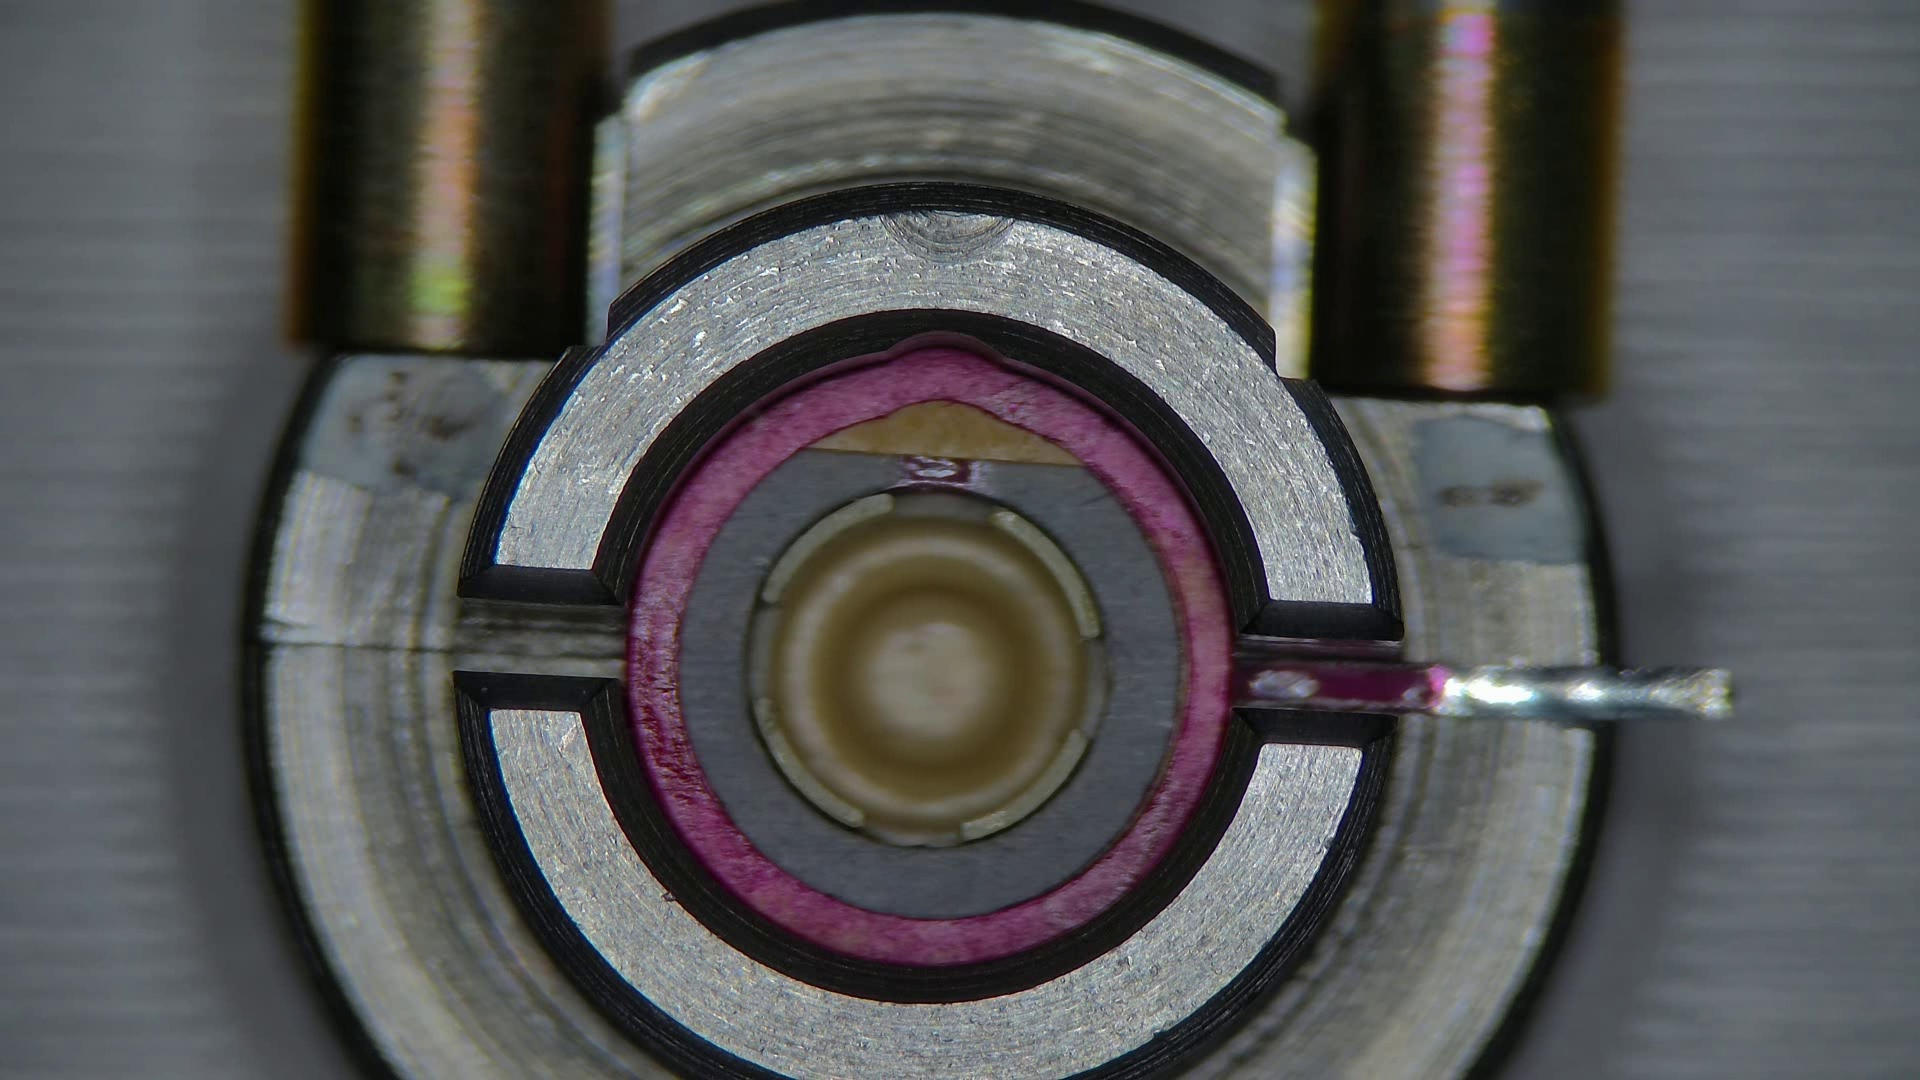GreyOring: (628, 347, 1234, 965)
YellowOring: (680, 458, 1182, 915)
redOring: (808, 404, 1080, 464)
